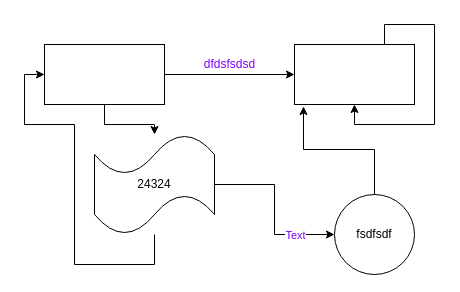
This 460x292 diagram has some shape labels left out. Here are the shapes that lost their labels. From the top down, the centre of each, then its label:
(104,74): dsfsdfsdfdsf
(354,74): dsfdsfsd
